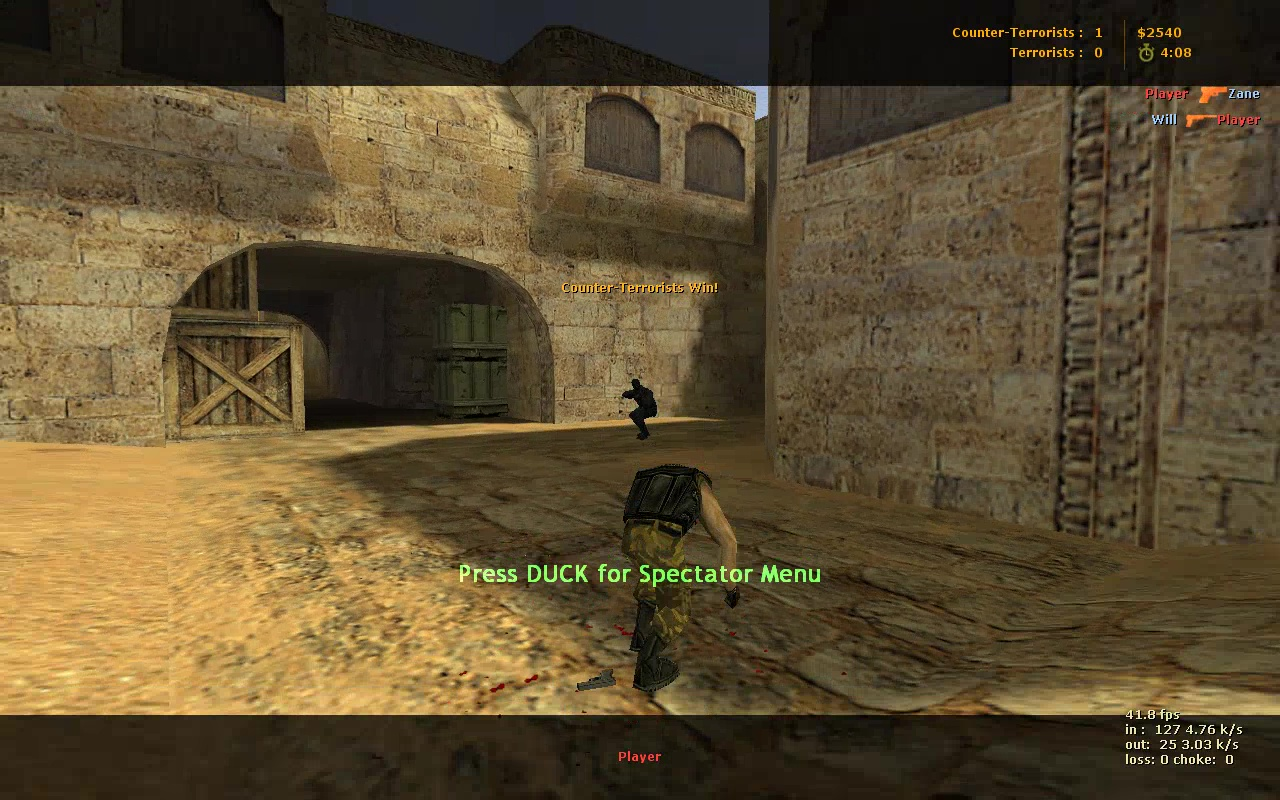ct: (619, 375, 659, 440)
terr1: (609, 463, 744, 692)
